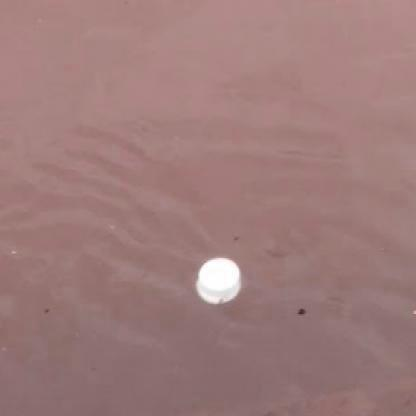Plastic: (192, 257, 245, 308)
